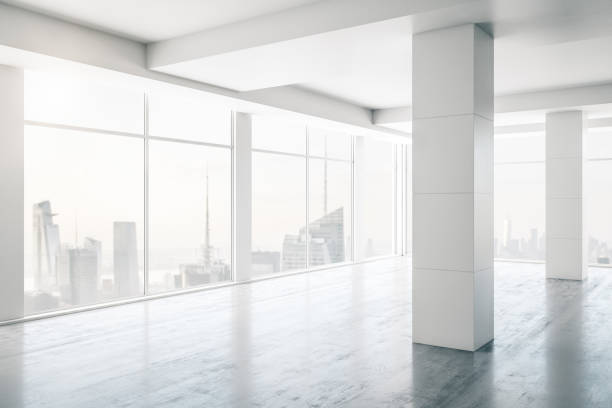pillar: (412, 23, 494, 353), (546, 110, 587, 282)
wall: (1, 44, 408, 325), (408, 117, 612, 269)
window: (24, 69, 393, 316), (424, 124, 612, 262)
